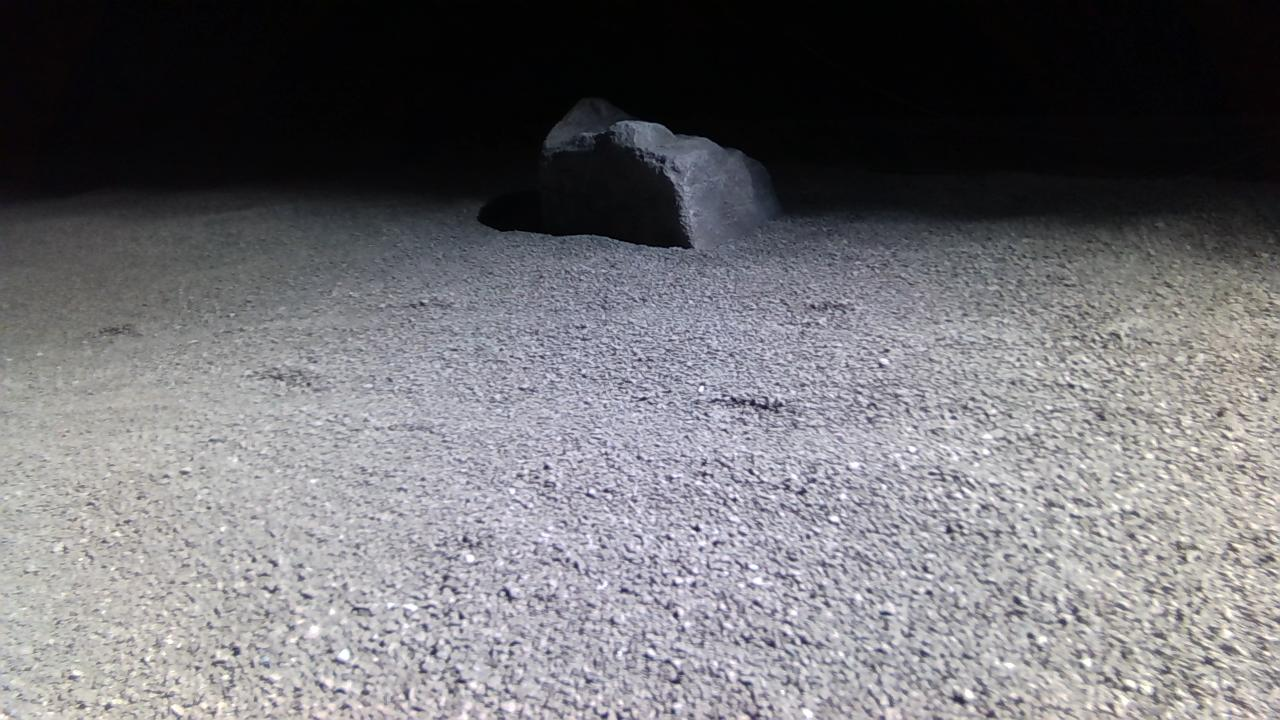rock: (541, 97, 783, 248)
